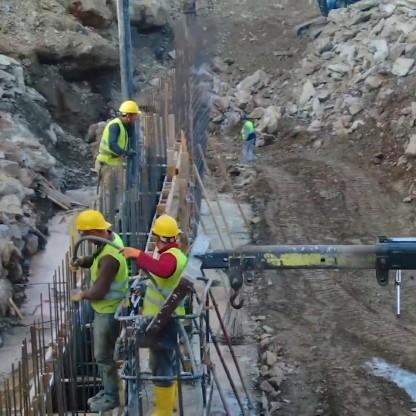helmet: (71, 213, 121, 248), (104, 100, 149, 133), (146, 220, 181, 256)
